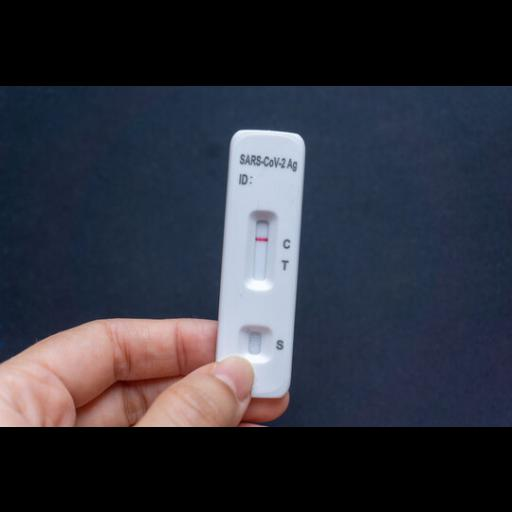Neg: (215, 127, 308, 400)
